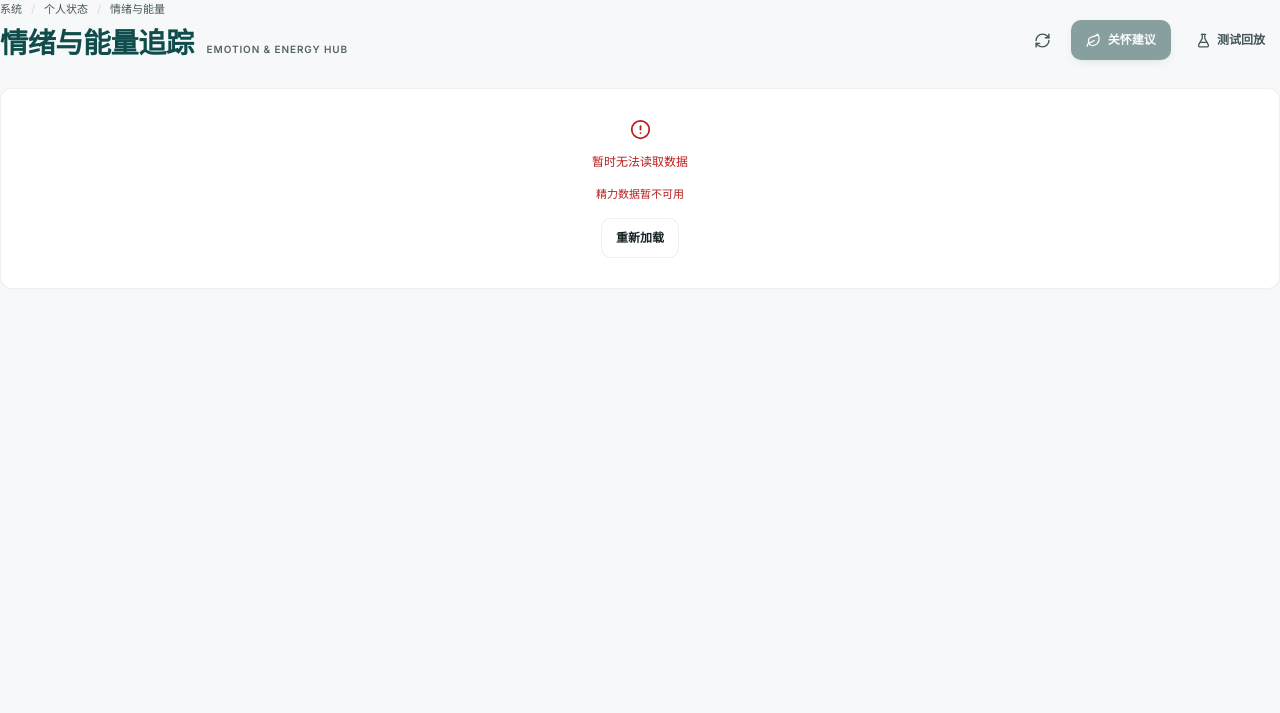
Test: wearable energy insights › shows server failures and retries instead of rendering invented samples
Expected: the message shows "精力数据暂不可用", [596,187,684,201]
Expected: the button "关怀建议" is disabled, [1071,20,1171,60]
Click the button "重新加载": (640, 238) [601,218,679,258]
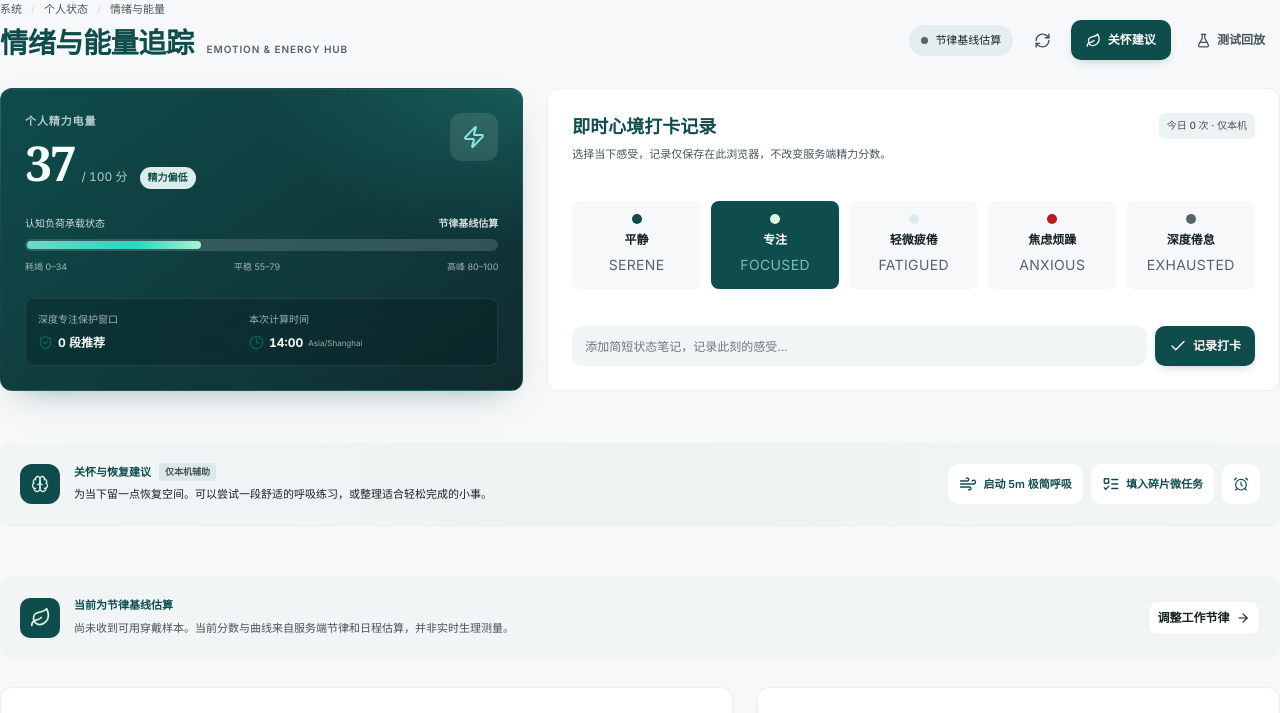
Now the element named "个人精力电量" is shown, box [25,239,498,251]
